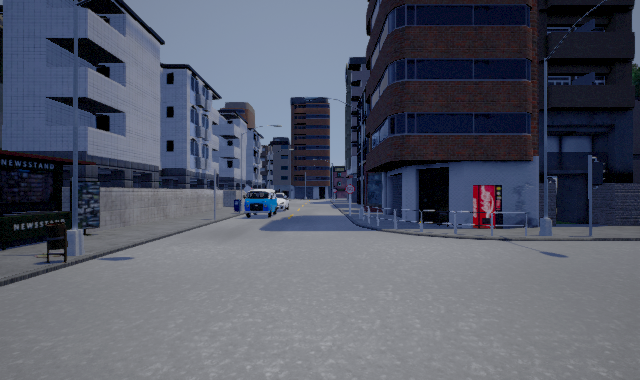traffic_sign: (345, 184, 355, 194)
vehicle: (243, 189, 277, 217), (269, 191, 289, 213)
